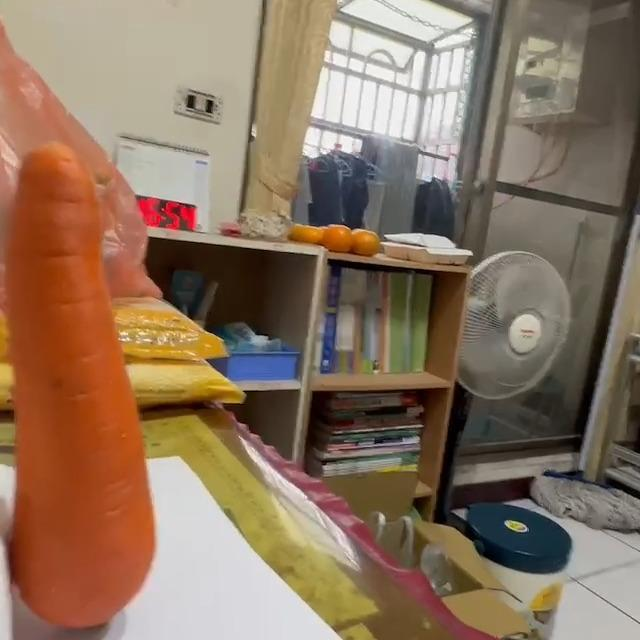carrot: (5, 141, 160, 634)
